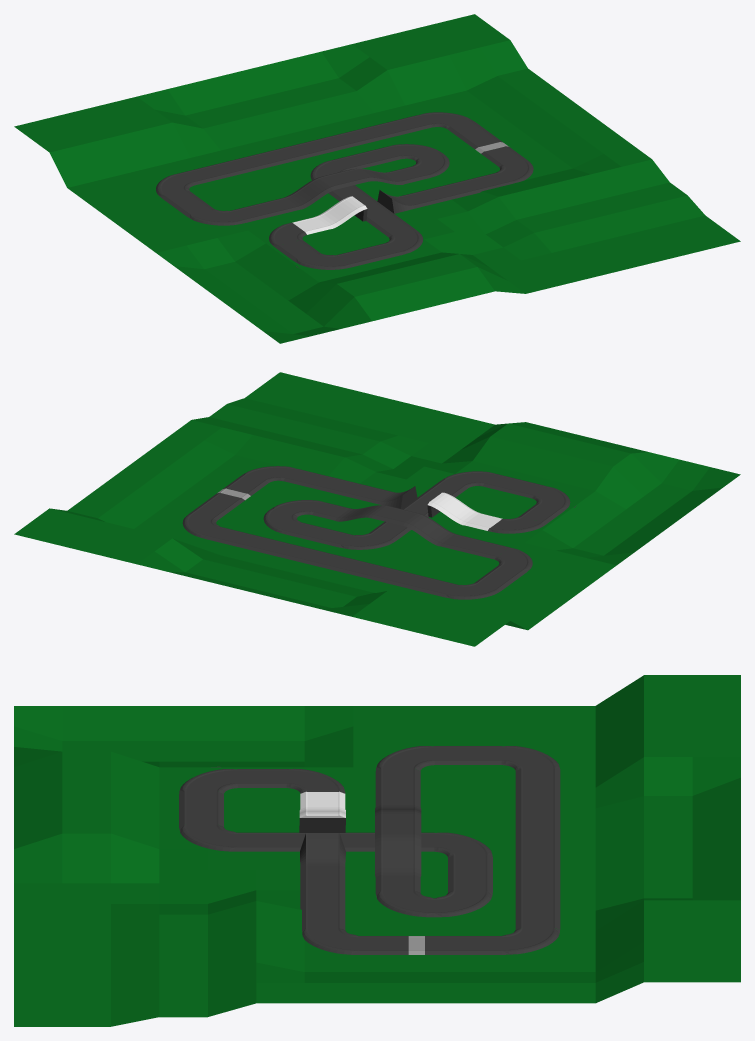
The model's file is track.fbx.
3 renders of one model, top to bottom at view 1: azimuth 30°, elevation 25°; view 2: azimuth 150°, elevation 25°; view 3: azimuth 270°, elevation 25°, orthographic. The views are drawn at different scales.
Visible parts, largest first — view 1: Plane, straight.009, straight.003, straight.002, overpass, overpass.003, straight.005, overpass.001, straight.004, straight.010, straight.008, turn.003 (+10 smaller); view 2: Plane, straight.009, straight.002, straight.003, overpass.003, overpass, straight.005, overpass.001, straight.004, straight.010, straight.008, turn.004 (+14 smaller); view 3: Plane, straight.009, straight.002, overpass.001, straight.003, ramp, straight.005, straight.004, straight.010, straight.008, turn.005, turn.007 (+15 smaller).
Boxes of the visible parts, bbox=[...] form: Plane: bbox=[14, 14, 740, 343]; straight.009: bbox=[178, 115, 432, 185]; straight.003: bbox=[328, 185, 416, 237]; straight.002: bbox=[410, 173, 510, 205]; overpass: bbox=[292, 196, 367, 234]; overpass.003: bbox=[262, 177, 336, 215]; straight.005: bbox=[333, 147, 400, 169]; overpass.001: bbox=[353, 166, 427, 184]; straight.004: bbox=[336, 243, 400, 267]; straight.010: bbox=[447, 121, 502, 149]; straight.008: bbox=[162, 191, 213, 216]; turn.003: bbox=[293, 253, 351, 269]; Plane: bbox=[14, 372, 740, 646]; straight.009: bbox=[204, 526, 457, 596]; straight.002: bbox=[283, 469, 385, 501]; straight.003: bbox=[369, 480, 467, 540]; overpass.003: bbox=[403, 513, 478, 551]; overpass: bbox=[427, 492, 502, 530]; straight.005: bbox=[285, 522, 353, 547]; overpass.001: bbox=[312, 503, 387, 521]; straight.004: bbox=[482, 474, 546, 498]; straight.010: bbox=[189, 492, 244, 520]; straight.008: bbox=[474, 565, 526, 589]; turn.004: bbox=[488, 517, 545, 533]; Plane: bbox=[14, 675, 740, 1026]; straight.009: bbox=[515, 769, 560, 929]; straight.002: bbox=[300, 870, 345, 929]; overpass.001: bbox=[375, 834, 421, 892]; straight.003: bbox=[237, 832, 434, 851]; ramp: bbox=[300, 833, 345, 872]; straight.005: bbox=[448, 855, 492, 892]; straight.004: bbox=[179, 792, 223, 826]; straight.010: bbox=[425, 936, 501, 954]; straight.008: bbox=[434, 746, 501, 764]; turn.005: bbox=[375, 890, 434, 917]; turn.007: bbox=[501, 928, 559, 954].
Bounding box in the file's own units: 16000 × 1105 × 16000.
